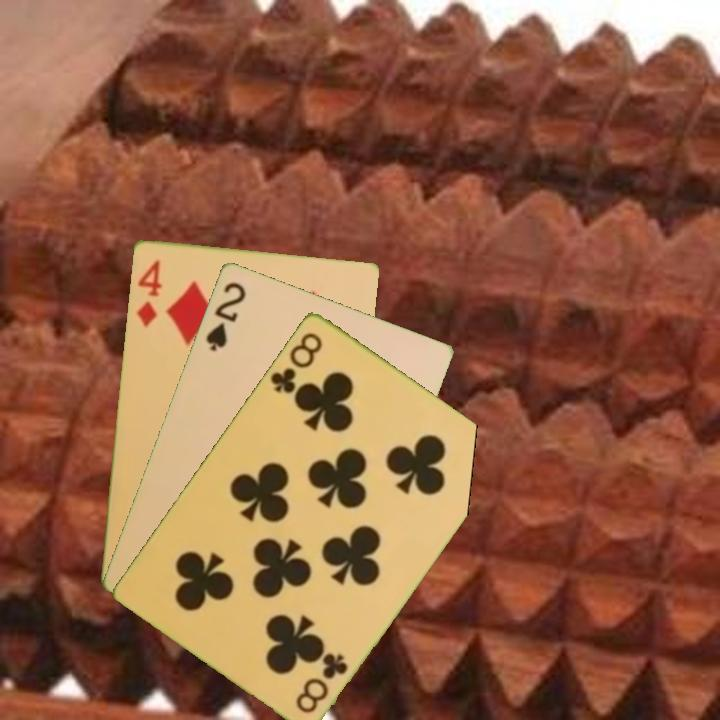2s: (202, 278, 249, 354)
4d: (133, 256, 164, 329)
8c: (266, 328, 326, 396), (291, 648, 351, 716)
